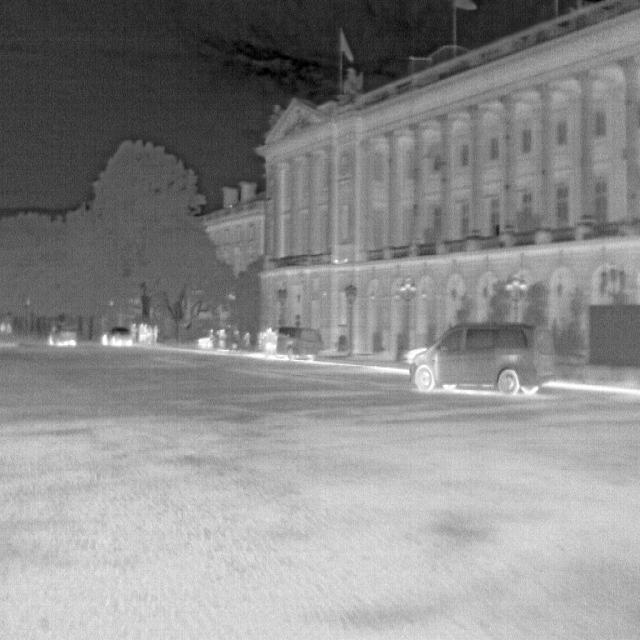Vehicle: (400, 315, 553, 400)
